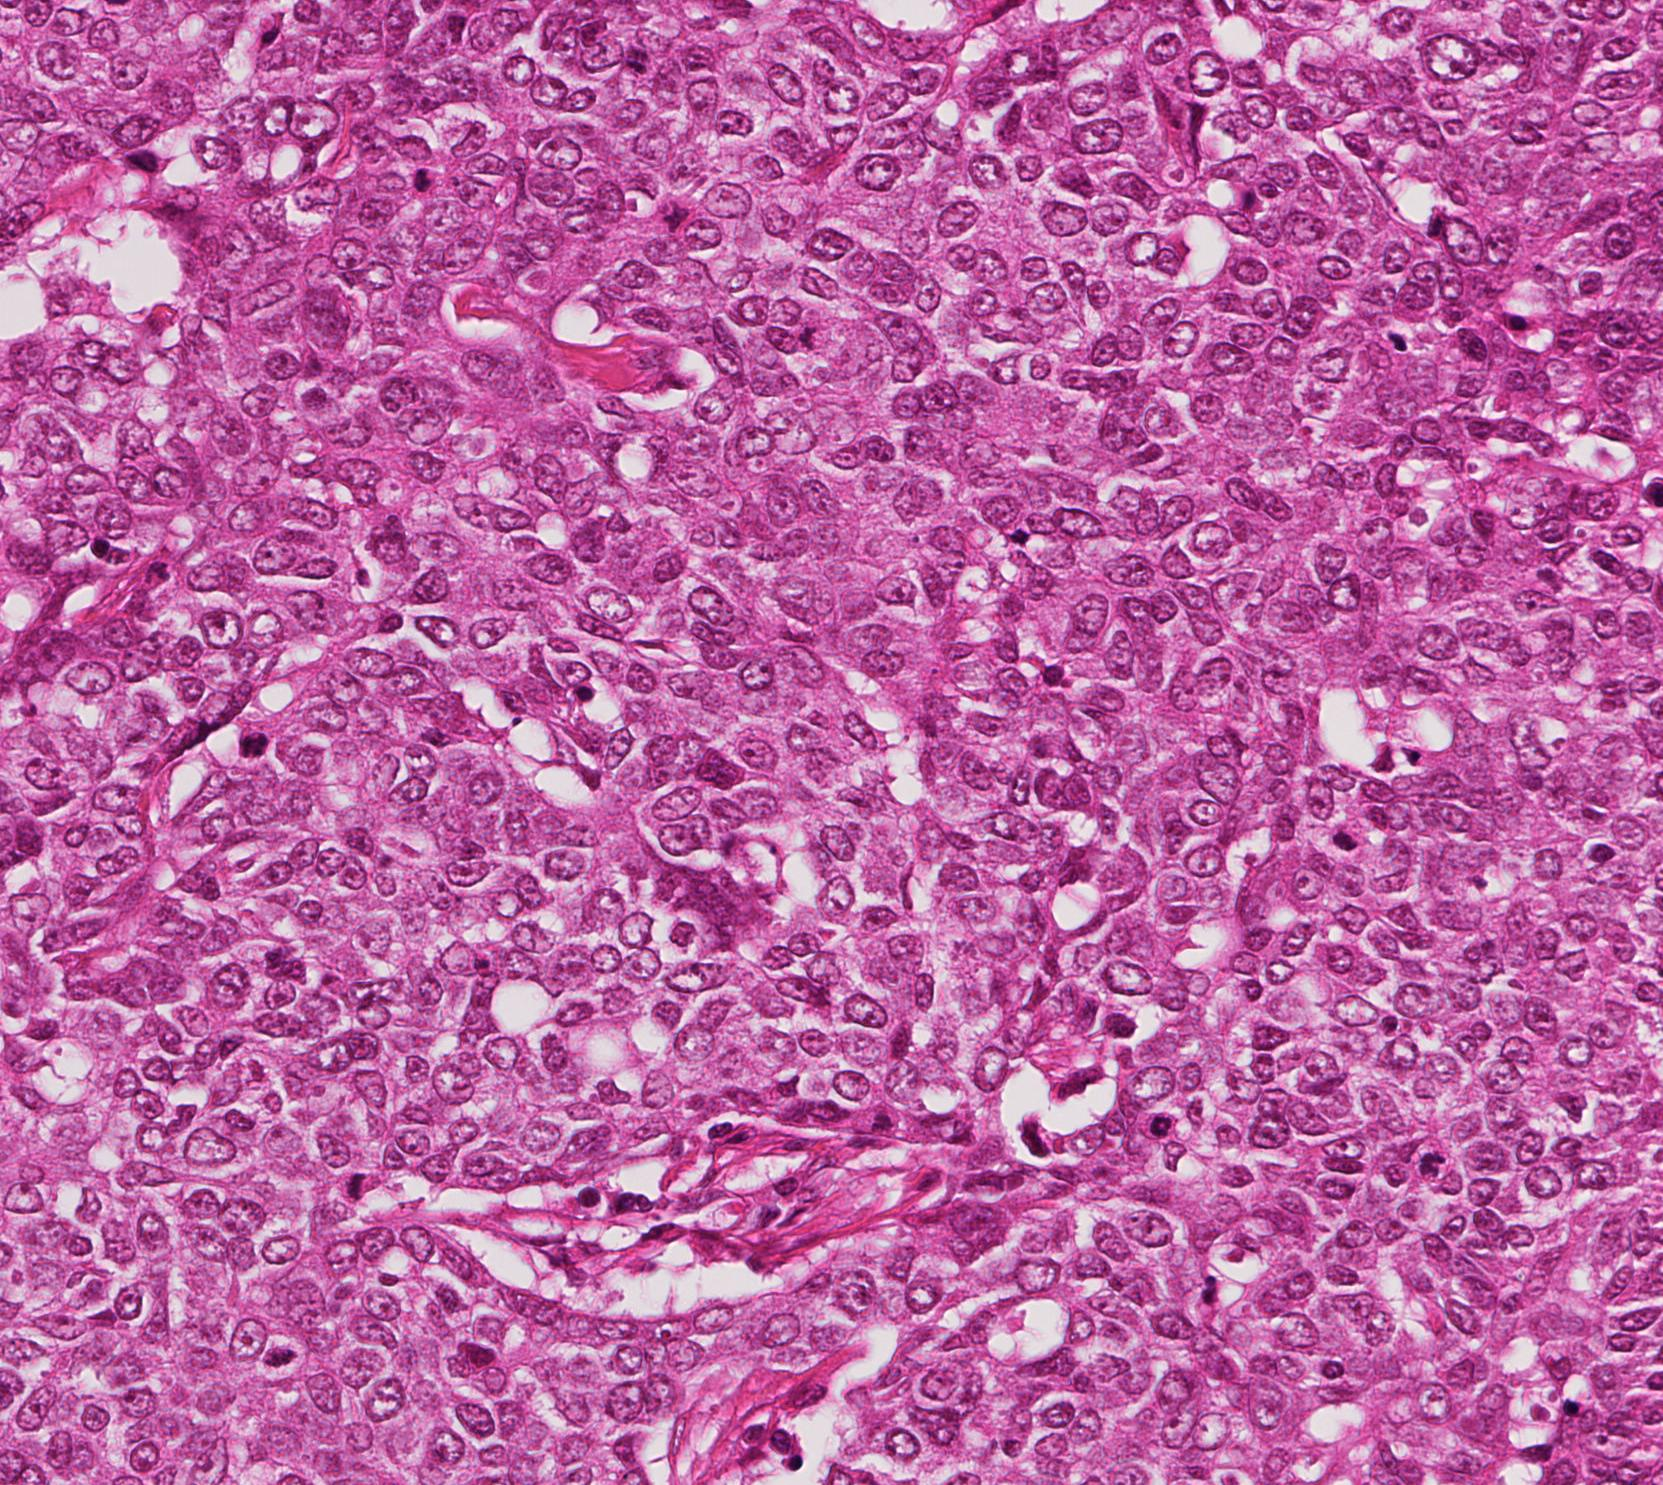mitosis: (781, 310, 842, 368), (323, 1161, 381, 1221)
